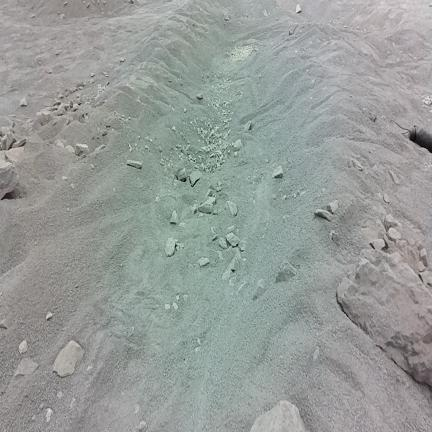Rock: (338, 249, 431, 385), (251, 401, 305, 431), (53, 341, 84, 376), (0, 160, 19, 199), (14, 358, 38, 376), (276, 261, 295, 282), (198, 196, 215, 214), (5, 148, 23, 163), (36, 110, 53, 125), (383, 214, 398, 231), (2, 132, 16, 150), (253, 280, 265, 300), (315, 209, 332, 221), (0, 312, 12, 329), (67, 112, 83, 124), (226, 257, 239, 271), (226, 233, 239, 247), (165, 238, 175, 256), (225, 201, 237, 216), (190, 171, 202, 186), (370, 239, 386, 250), (419, 270, 430, 286), (10, 138, 26, 149), (388, 228, 401, 241), (420, 248, 428, 267), (414, 262, 426, 274), (327, 200, 338, 213), (76, 144, 89, 155), (175, 168, 186, 181), (389, 170, 399, 184), (272, 166, 283, 178), (351, 159, 363, 170), (55, 104, 66, 115), (198, 258, 210, 268), (94, 144, 106, 154), (127, 160, 142, 168), (222, 270, 233, 280), (233, 139, 242, 151), (19, 340, 27, 353), (170, 211, 178, 224), (330, 231, 339, 242), (46, 408, 53, 422), (238, 240, 246, 252), (219, 238, 227, 249), (244, 121, 252, 131), (139, 421, 147, 431), (65, 145, 75, 153), (416, 241, 423, 252), (55, 140, 64, 148), (46, 312, 53, 320), (20, 98, 27, 106), (71, 104, 79, 111), (191, 205, 197, 214), (384, 193, 389, 203), (134, 404, 139, 414), (46, 67, 53, 74), (224, 12, 229, 21), (296, 4, 301, 13), (76, 82, 84, 87), (92, 0, 99, 5), (173, 303, 178, 310), (197, 93, 202, 99), (103, 72, 109, 77), (60, 14, 65, 18), (120, 58, 124, 62), (59, 94, 63, 98), (64, 2, 68, 6), (90, 73, 94, 77), (130, 0, 134, 3), (90, 80, 93, 84), (173, 126, 175, 130)
